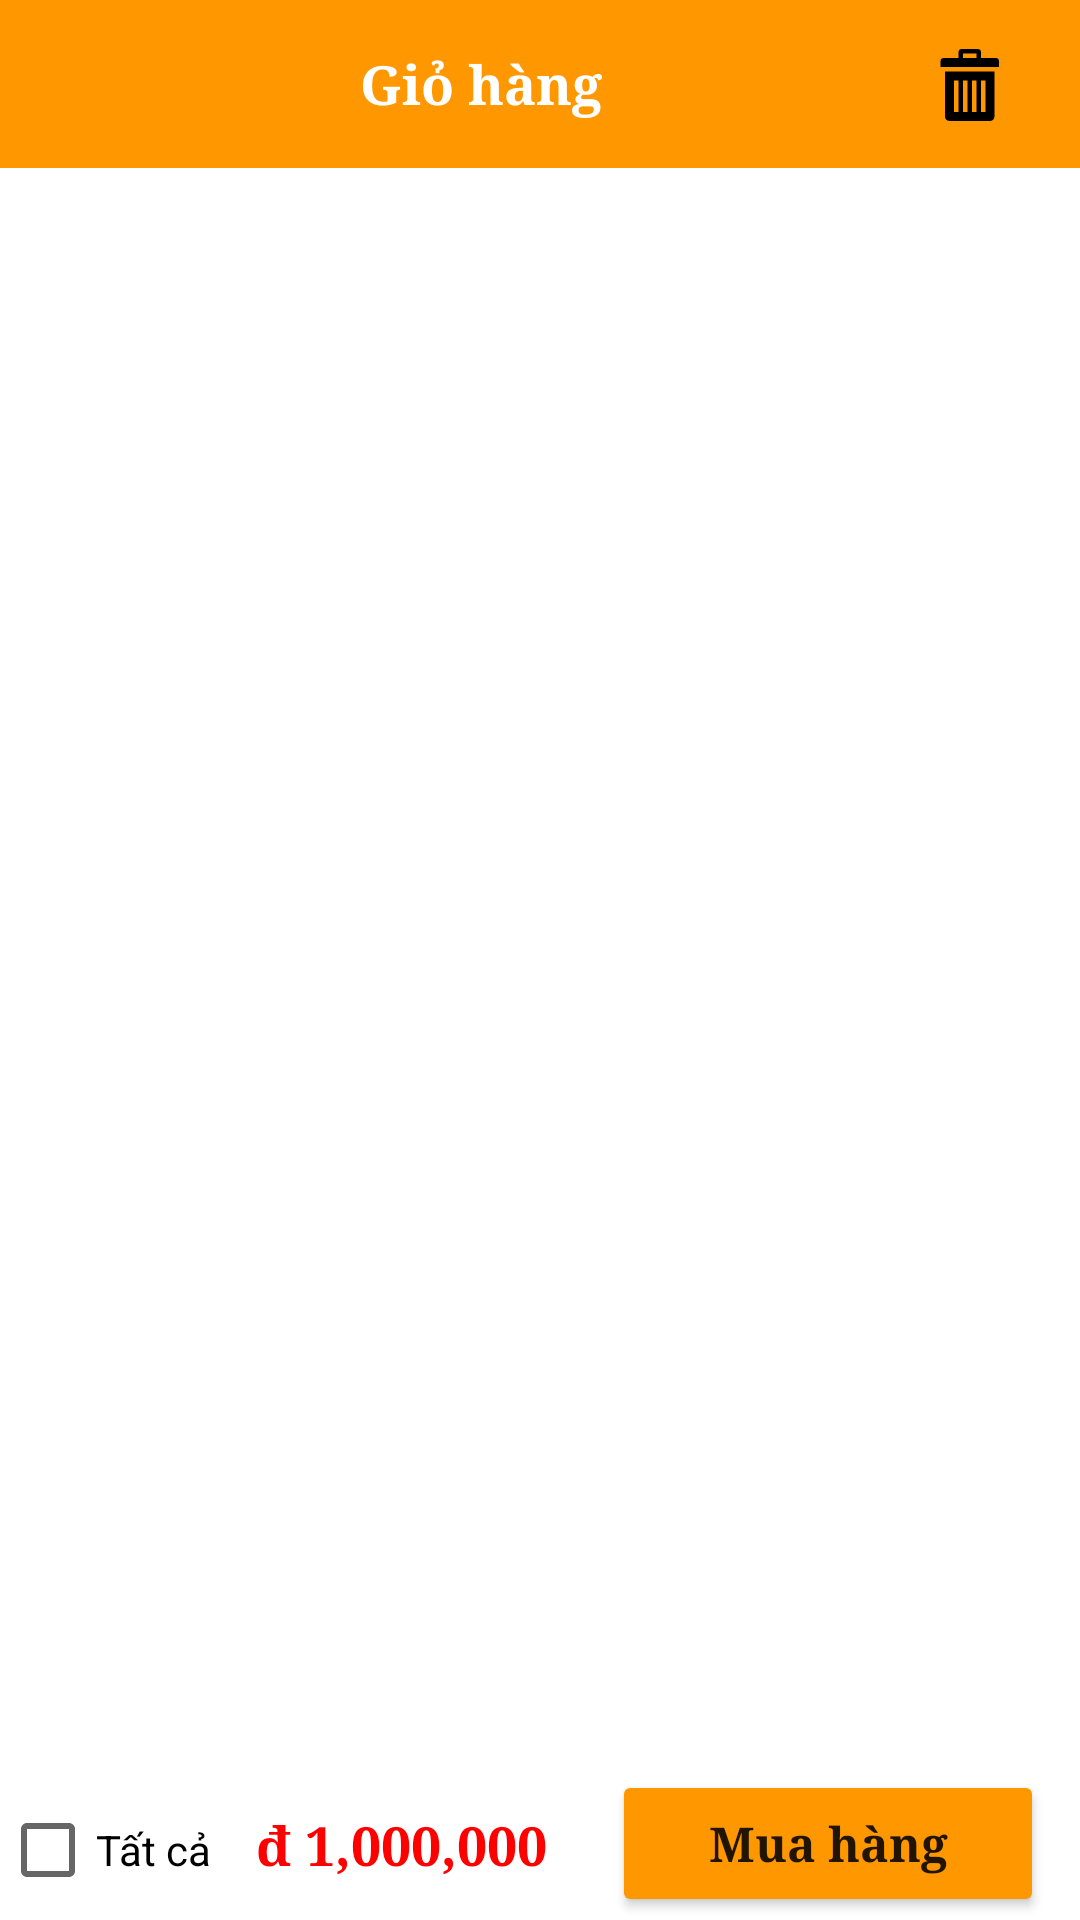

Icons on this 1080 x 1920 Android screen, each with its box as {"x1": x1, "y1": y1, "x2": x2, "y2": y2}:
bin: {"x1": 940, "y1": 49, "x2": 999, "y2": 121}
